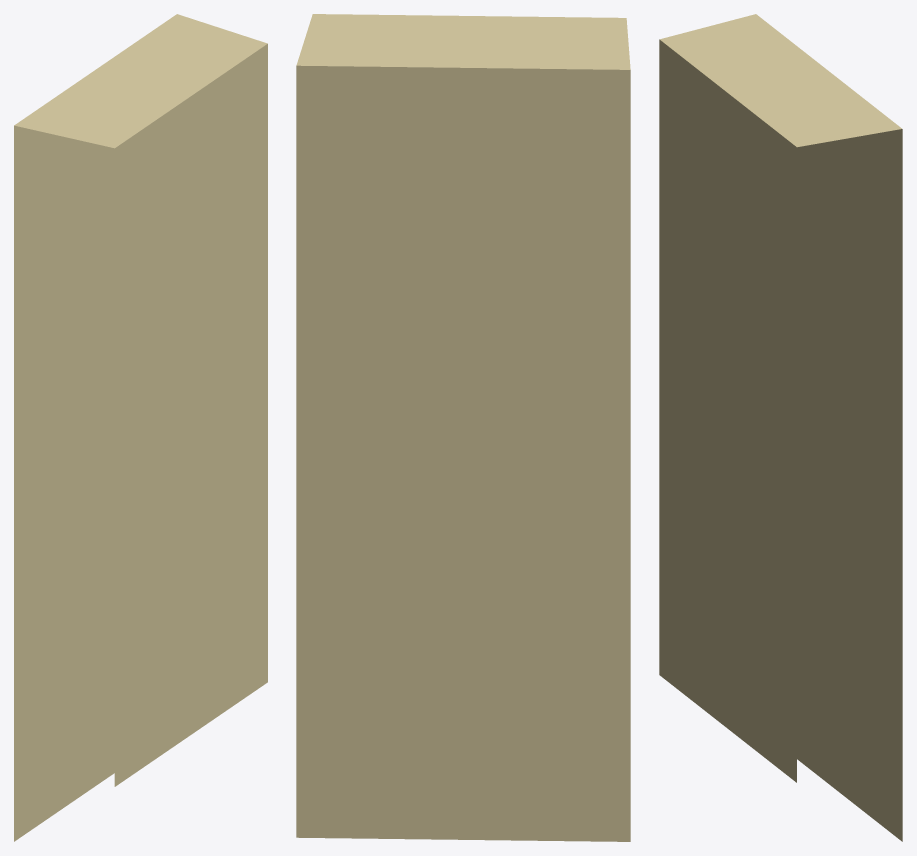
Rendered from wall17.fbx.
The picture shows the model from 3 angles, left to right: view 1: azimuth 30°, elevation 25°; view 2: azimuth 150°, elevation 25°; view 3: azimuth 270°, elevation 25°; orthographic projection. The views are drawn at different scales.
Parts seen in each view (by area): view 1: duvar.020; view 2: duvar.020; view 3: duvar.020.
Boxes of the visible parts, box(x1,y1,x2,y2) form: duvar.020: box(14, 14, 267, 841); duvar.020: box(296, 14, 630, 841); duvar.020: box(659, 14, 902, 841).
Bounding box in the file's own units: 18.04 × 44.99 × 13.9.
